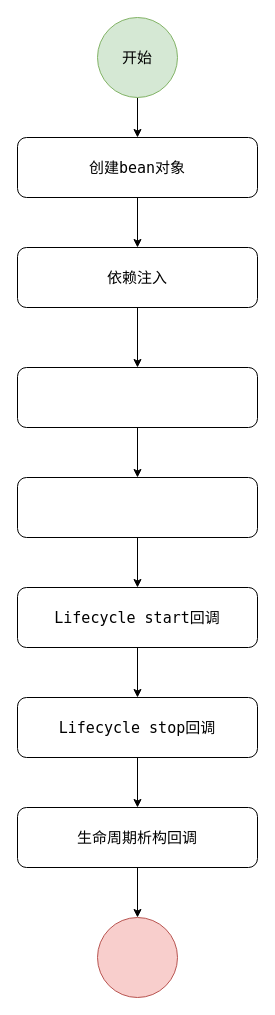
Some shapes in this 275 by 1015 pixel diagram are drawn without their labels. The shapes that lost their labels are listed below. From the top down, each one's centre as x and y in pixels, then its label:
the point at 137,397: 执行Aware回调
the point at 137,507: 生命周期初始化回调
the point at 137,957: 结束
